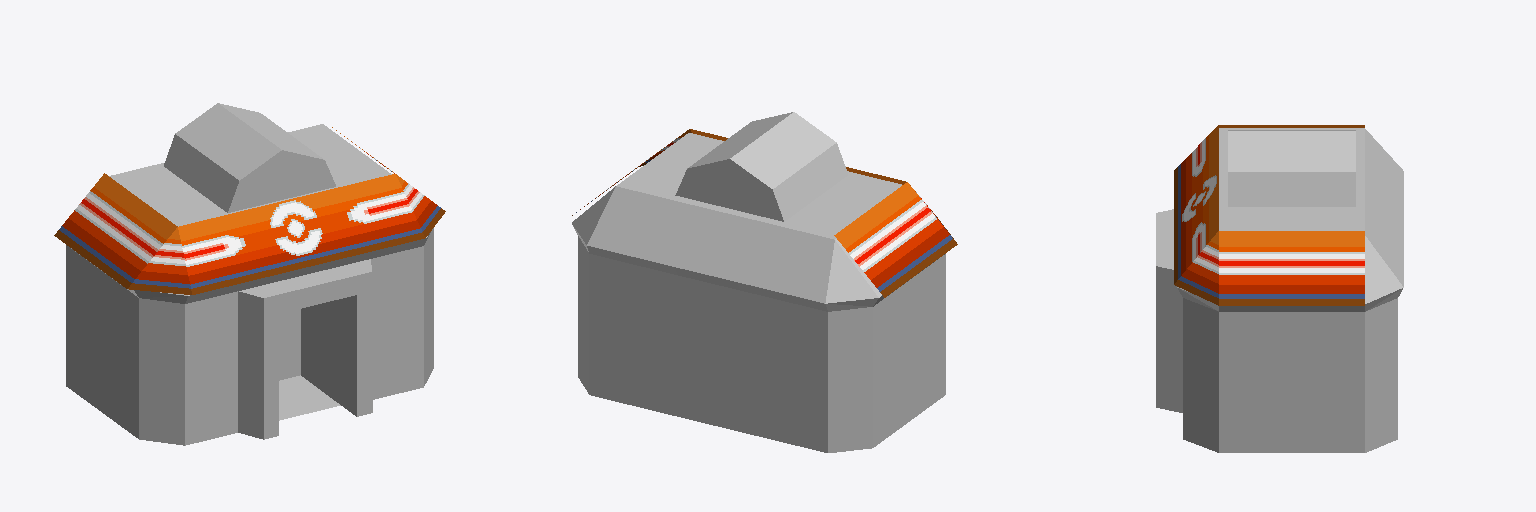
3 views of the same model, side by side, from view 1: azimuth 30°, elevation 25°; view 2: azimuth 150°, elevation 25°; view 3: azimuth 270°, elevation 25° (orthographic).
Parts seen in each view (by area): view 1: Pokémon_Center.003_pc_1, Pokémon_Center.003_light_a, Pokémon_Center.003_pc_2; view 2: Pokémon_Center.003_pc_1, Pokémon_Center.003_pc_2, Pokémon_Center.003_light_a; view 3: Pokémon_Center.003_pc_1, Pokémon_Center.003_pc_2, Pokémon_Center.003_light_a.
Part boxes in pixels (left/top/right/bottom): Pokémon_Center.003_pc_1: left=66, top=228, right=433, bottom=445; Pokémon_Center.003_light_a: left=54, top=127, right=445, bottom=294; Pokémon_Center.003_pc_2: left=71, top=103, right=430, bottom=317; Pokémon_Center.003_pc_1: left=578, top=236, right=945, bottom=452; Pokémon_Center.003_pc_2: left=572, top=112, right=944, bottom=311; Pokémon_Center.003_light_a: left=572, top=129, right=957, bottom=297; Pokémon_Center.003_pc_1: left=1156, top=286, right=1397, bottom=452; Pokémon_Center.003_pc_2: left=1156, top=128, right=1403, bottom=311; Pokémon_Center.003_light_a: left=1174, top=125, right=1364, bottom=305.
Bounding box in the file's own units: 82 × 61.5 × 55.34.
Materials: 3 (1 with a texture image).